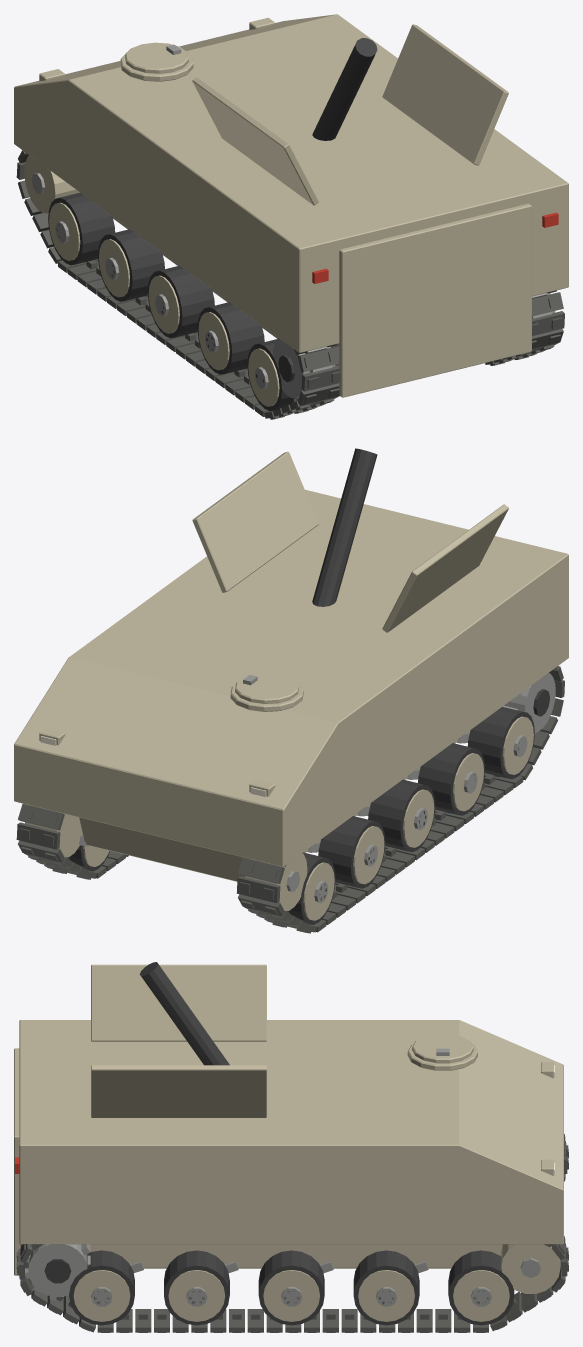
File: usa_mor_1064.glb
The picture shows the model from 3 angles, top to bottom: view 1: azimuth 30°, elevation 25°; view 2: azimuth 150°, elevation 25°; view 3: azimuth 270°, elevation 25°; orthographic projection. The views are drawn at different scales.
Visible parts, largest first — view 1: body, barrel; view 2: body, barrel; view 3: body, barrel.
Boxes of the visible parts, box(x1,y1,x2,y2) form: body: box(14, 14, 568, 419); barrel: box(312, 38, 377, 140); body: box(14, 451, 568, 933); barrel: box(312, 448, 377, 606); body: box(14, 964, 568, 1332); barrel: box(139, 962, 229, 1065).
Size of the model in its own units: 2.7 by 3.11 by 5.05.
